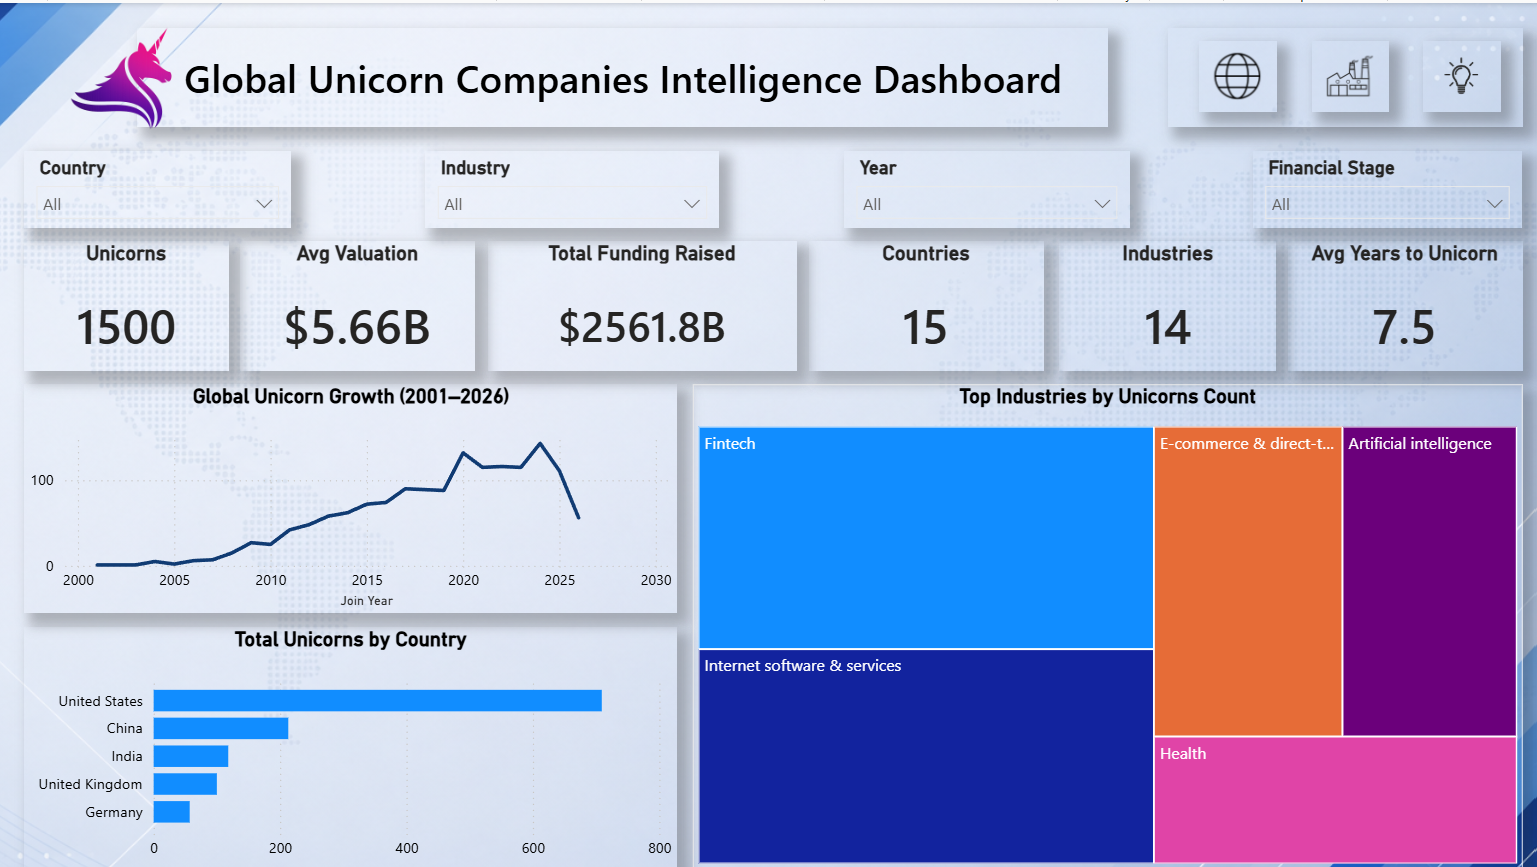

The dashboard page shown, as its layout file describes it:
{"tool":"powerbi","page":{"name":"Executive Overview","canvas":[1280,720],"ordinal":0},"visuals":[{"type":"shape","box":[971.5,20.6,295,82.3],"z":0},{"type":"textbox","box":[148.2,35.7,741,52.1],"z":1000},{"type":"slicer","fields":{"Values":["unicorn_companies.Country"]},"box":[20.6,122.1,222.3,64.5],"z":2000},{"type":"slicer","fields":{"Values":["unicorn_companies.Industry"]},"box":[354,122.1,244.3,64.5],"z":3000},{"type":"slicer","fields":{"Values":["unicorn_companies.Date Joined.Variation.Date Hierarchy.Year"]},"box":[702.6,122.1,237.4,64.5],"z":4000},{"type":"slicer","fields":{"Values":["unicorn_companies.Financial Stage"]},"box":[1042.9,122.1,223.7,64.5],"z":5000},{"type":"cardVisual","title":"Avg Valuation","fields":{"Data":["unicorn_companies.Average Valuation"]},"box":[200.3,198,194.9,108.4],"z":6000},{"type":"cardVisual","title":"Total Funding Raised","fields":{"Data":["unicorn_companies.Total Funding Raised"]},"box":[406.2,197.6,256.6,108.4],"z":7000},{"type":"cardVisual","title":"Countries ","fields":{"Data":["unicorn_companies.Countries Covered"]},"box":[673.8,198,194.9,108.4],"z":8000},{"type":"cardVisual","title":"Industries ","fields":{"Data":["unicorn_companies.Industries Covered"]},"box":[881,198,181.1,108.4],"z":9000},{"type":"cardVisual","title":"Unicorns ","fields":{"Data":["unicorn_companies.Total Unicorns"]},"box":[20.6,198,170.2,108.4],"z":10000},{"type":"cardVisual","title":"Avg Years to Unicorn ","fields":{"Data":["unicorn_companies.Average Company Age"]},"box":[1072.1,197.7,194.2,108.1],"z":11000},{"type":"lineChart","title":"Global Unicorn Growth (2001–2026)","fields":{"Category":["unicorn_companies.Join Year"],"Y":["unicorn_companies.Total Unicorns"]},"box":[20.6,317,543.4,190.7],"z":12000},{"type":"clusteredBarChart","fields":{"Category":["unicorn_companies.Country"],"Y":["unicorn_companies.Total Unicorns"]},"box":[20.6,518.7,543.4,201.7],"z":13000},{"type":"treemap","title":"Top Industries by Unicorns Count","fields":{"Values":["unicorn_companies.Total Unicorns"],"Group":["unicorn_companies.Industry"]},"box":[576.3,317,690.2,403.4],"z":14000},{"type":"shape","box":[113.9,20.6,808.2,82.3],"z":16500},{"type":"image","box":[35.7,0,141.3,124.9],"z":18501},{"type":"actionButton","box":[997.6,31.6,64.5,59],"z":19501},{"type":"actionButton","box":[1090.9,31.6,64.5,59],"z":20501},{"type":"actionButton","box":[1184.2,31.6,64.5,59],"z":21501}]}

Visuals, with their boxes in screenshot pixels (x1, y1, x2, y2), scaled from the page's 1280x720 canvas onto the 1537x867 screenshot:
shape: (x1=1167, y1=25, x2=1521, y2=124)
textbox: (x1=178, y1=43, x2=1068, y2=106)
slicer - unicorn_companies.Country: (x1=25, y1=147, x2=292, y2=225)
slicer - unicorn_companies.Industry: (x1=425, y1=147, x2=718, y2=225)
slicer - unicorn_companies.Date Joined.Variation.Date Hierarchy.Year: (x1=844, y1=147, x2=1129, y2=225)
slicer - unicorn_companies.Financial Stage: (x1=1252, y1=147, x2=1521, y2=225)
"Avg Valuation" cardVisual: (x1=241, y1=238, x2=475, y2=369)
"Total Funding Raised" cardVisual: (x1=488, y1=238, x2=796, y2=368)
"Countries " cardVisual: (x1=809, y1=238, x2=1043, y2=369)
"Industries " cardVisual: (x1=1058, y1=238, x2=1275, y2=369)
"Unicorns " cardVisual: (x1=25, y1=238, x2=229, y2=369)
"Avg Years to Unicorn " cardVisual: (x1=1287, y1=238, x2=1521, y2=368)
"Global Unicorn Growth (2001–2026)" lineChart: (x1=25, y1=382, x2=677, y2=611)
clusteredBarChart - unicorn_companies.Country x unicorn_companies.Total Unicorns: (x1=25, y1=625, x2=677, y2=866)
"Top Industries by Unicorns Count" treemap: (x1=692, y1=382, x2=1521, y2=866)
shape: (x1=137, y1=25, x2=1107, y2=124)
image: (x1=43, y1=0, x2=213, y2=150)
actionButton: (x1=1198, y1=38, x2=1275, y2=109)
actionButton: (x1=1310, y1=38, x2=1387, y2=109)
actionButton: (x1=1422, y1=38, x2=1499, y2=109)
